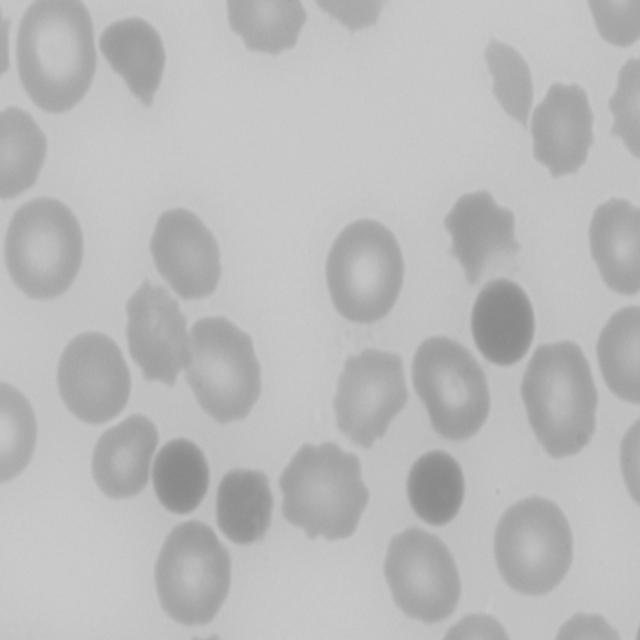RBC: (518, 339, 602, 462), (11, 0, 100, 114), (323, 214, 408, 330), (0, 195, 86, 304), (152, 518, 235, 628), (409, 332, 492, 442), (279, 441, 367, 543), (492, 493, 576, 599), (330, 342, 412, 450), (185, 315, 263, 428), (381, 522, 463, 625), (144, 202, 223, 302), (57, 328, 136, 428), (528, 76, 597, 180), (91, 417, 160, 502), (222, 0, 310, 63), (587, 196, 640, 300), (214, 463, 276, 550), (0, 100, 52, 200), (594, 296, 640, 407), (0, 378, 40, 488), (603, 48, 640, 160), (302, 0, 392, 30), (583, 0, 639, 47), (436, 608, 518, 640), (547, 610, 630, 640), (617, 408, 640, 516), (0, 0, 16, 104)
Spherocyte: (472, 274, 540, 372), (404, 446, 466, 530), (152, 436, 213, 520)
